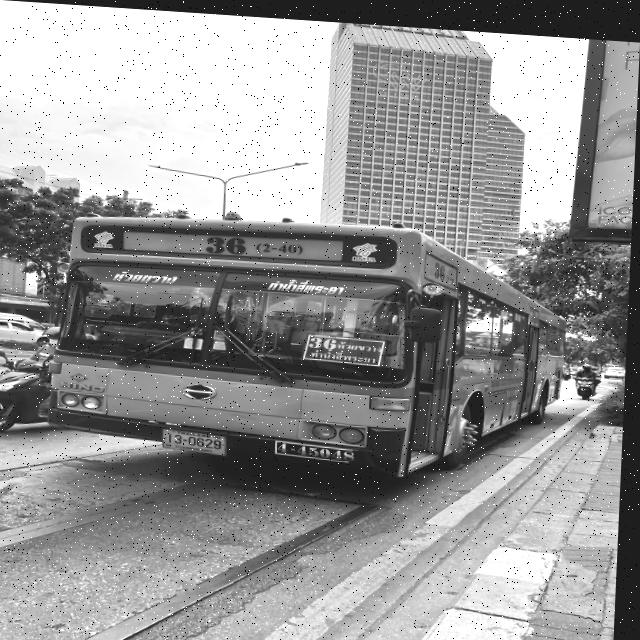BMTA-bus: (44, 215, 571, 475)
Bus Line Number: (191, 227, 316, 261)
Bus Side Number: (275, 433, 367, 460)
Destination Sign: (295, 327, 395, 364)
